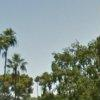Tree: (45, 33, 100, 100)
